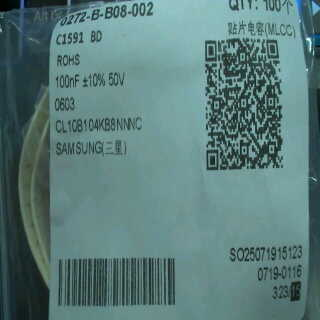100nF: (53, 71, 83, 92)
